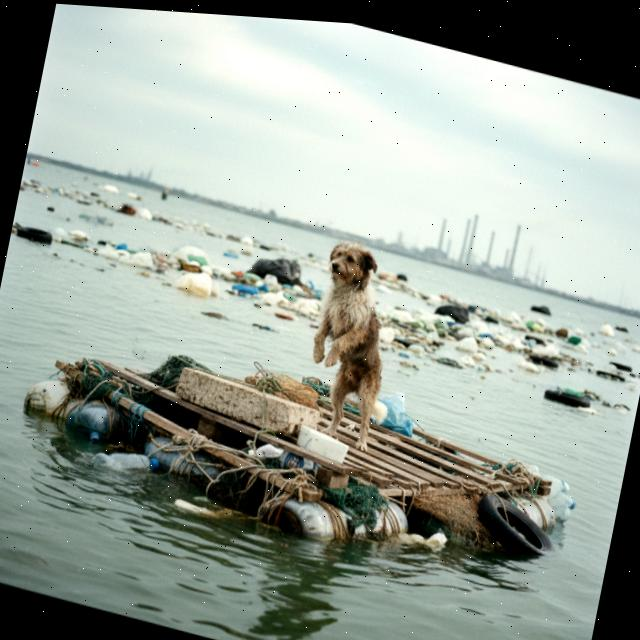dog: (277, 217, 435, 477)
